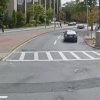Crosswalk: (5, 45, 99, 74)
